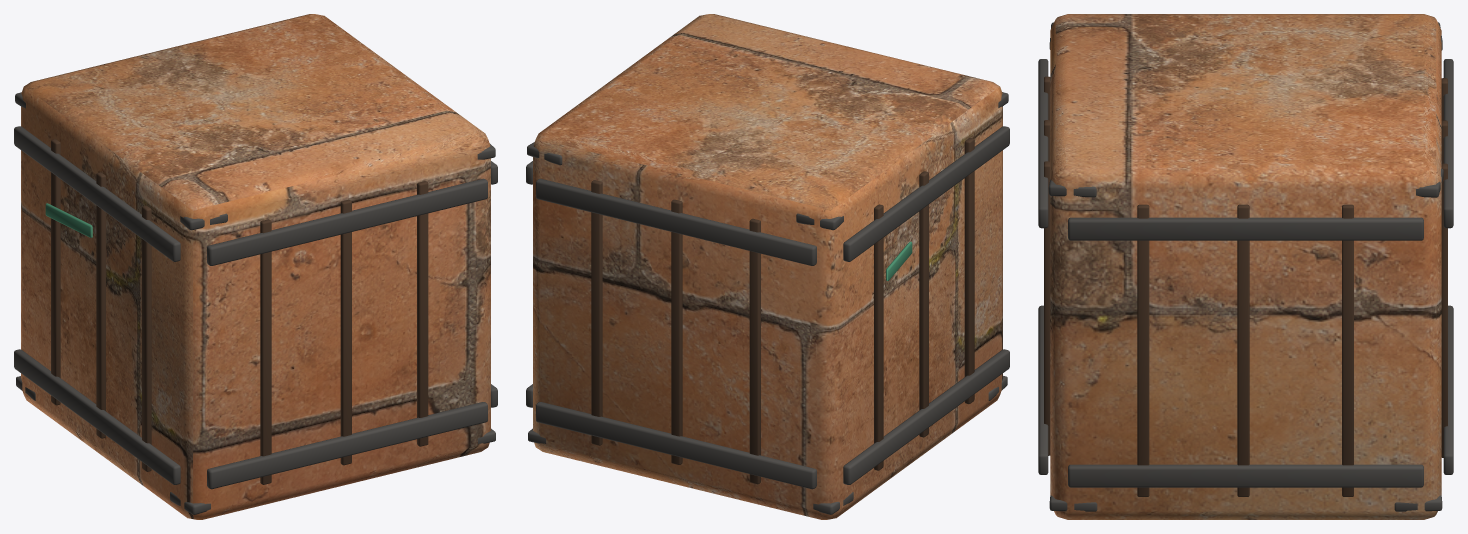
The model's file is w1_block_a.glb.
3 renders of one model, left to right at view 1: azimuth 30°, elevation 25°; view 2: azimuth 150°, elevation 25°; view 3: azimuth 270°, elevation 25°, orthographic. The views are drawn at different scales.
Parts seen in each view (by area): view 1: w1_block_a; view 2: w1_block_a; view 3: w1_block_a.
Part boxes in pixels (x1,y1,x2,y2): w1_block_a: (14, 14, 497, 519); w1_block_a: (526, 14, 1009, 519); w1_block_a: (1038, 14, 1453, 519).
Bounding box in the file's own units: 1.91 × 1.78 × 1.89.
4 materials, 1 textured.
